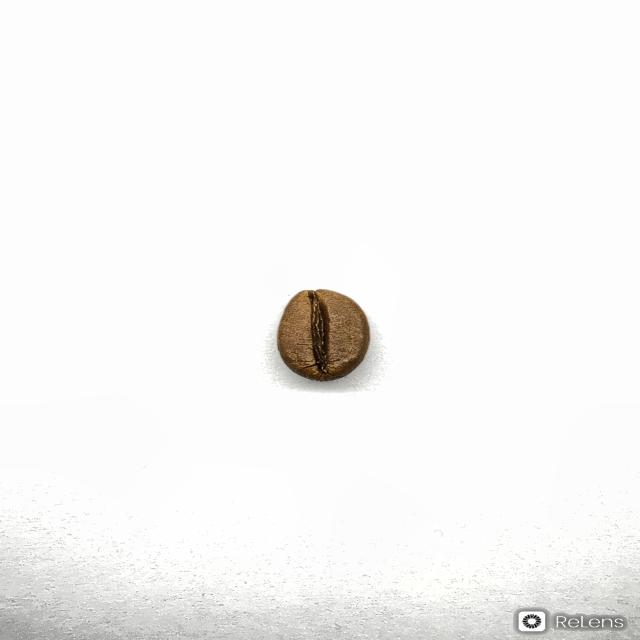Good bean: (276, 288, 371, 381)
